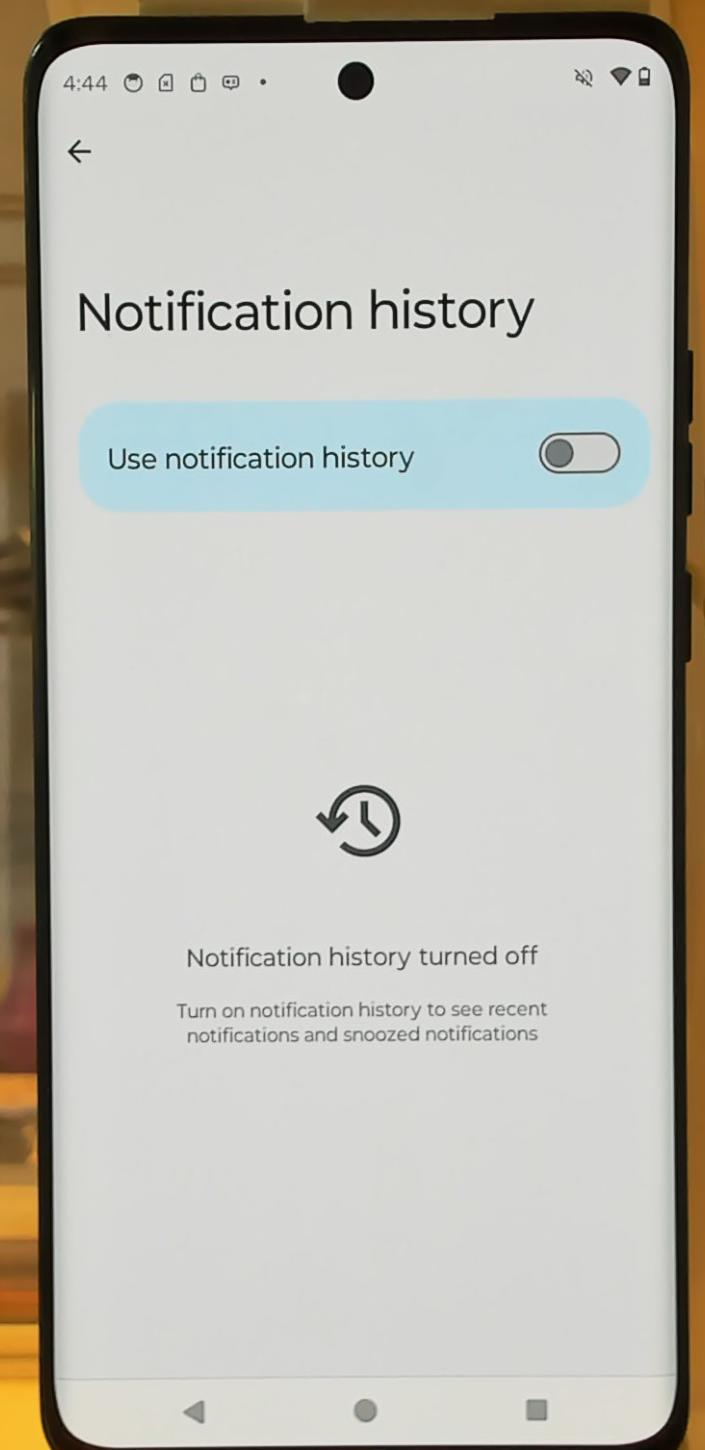Checkbox: (93, 414, 631, 489)
